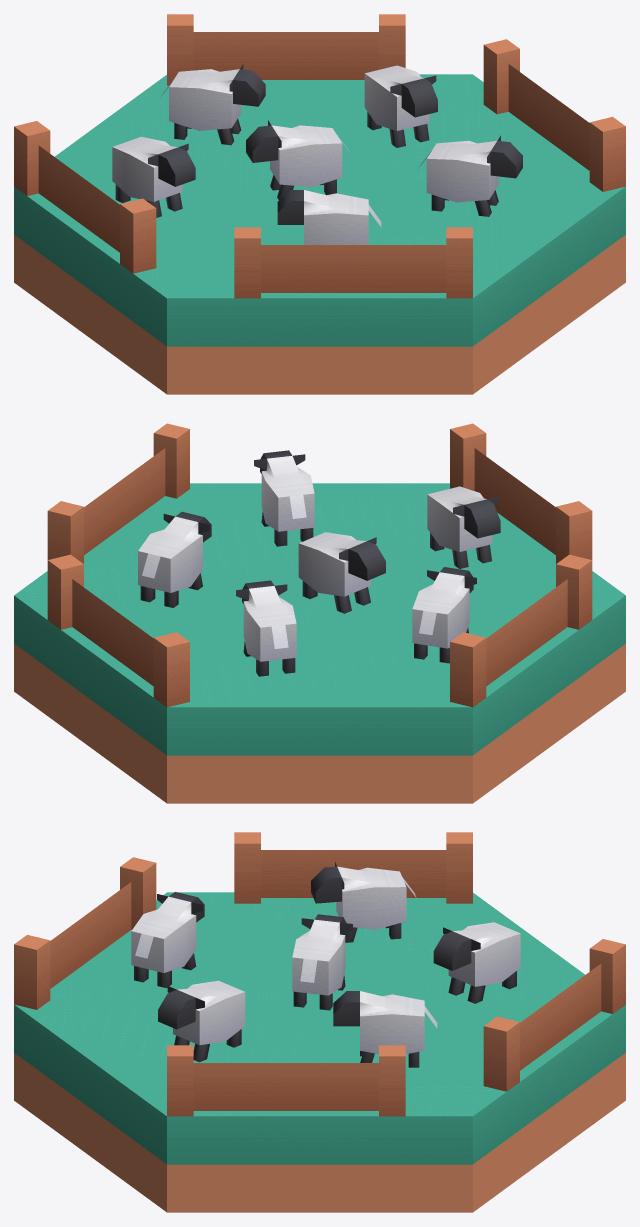
The model's file is building-sheep.glb.
3 views of the same model, one above another, from view 1: azimuth 30°, elevation 25°; view 2: azimuth 150°, elevation 25°; view 3: azimuth 270°, elevation 25° (orthographic).
Parts seen in each view (by area): view 1: building-sheep; view 2: building-sheep; view 3: building-sheep.
Boxes of the visible parts, box(x1,y1,x2,y2) form: building-sheep: box(14, 14, 625, 394); building-sheep: box(14, 423, 625, 803); building-sheep: box(14, 832, 625, 1212).
Bounding box in the file's own units: 1 × 0.3315 × 1.15.
1 material, 1 textured.
